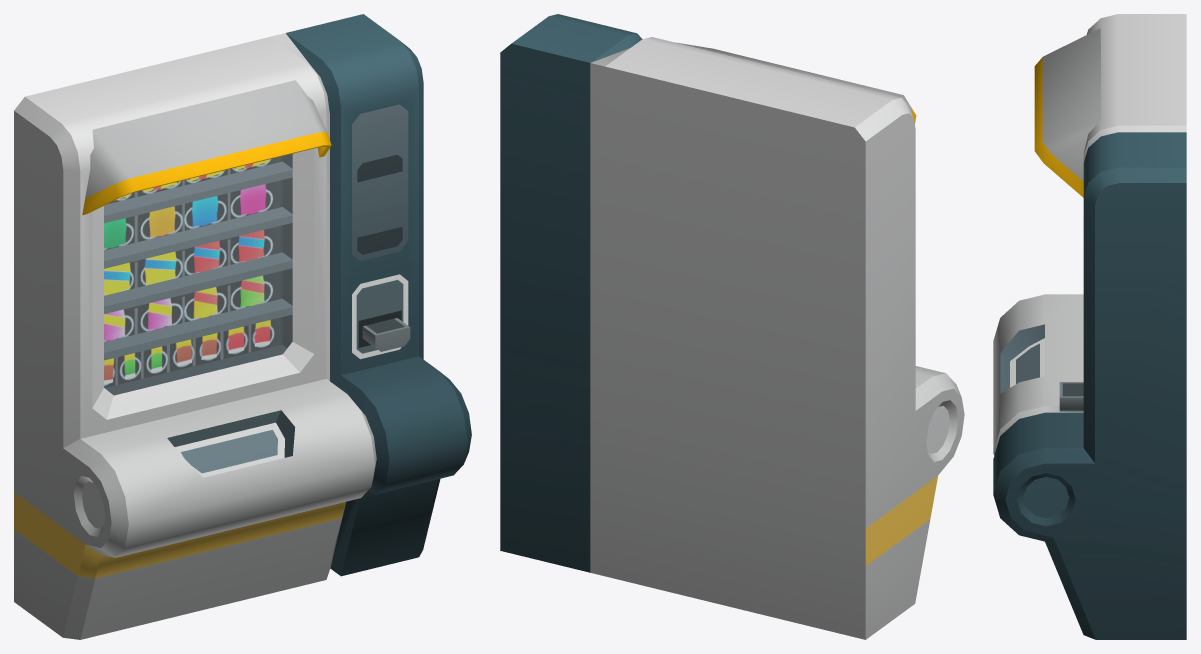
Rendered from Vending_Machine_003.glb.
The picture shows the model from 3 angles, left to right: view 1: azimuth 30°, elevation 25°; view 2: azimuth 150°, elevation 25°; view 3: azimuth 270°, elevation 25°; orthographic projection. The views are drawn at different scales.
Visible parts, largest first — view 1: Vending_Machine_003; view 2: Vending_Machine_003; view 3: Vending_Machine_003.
Part boxes in pixels (x1=…): Vending_Machine_003: x1=14, y1=14, x2=471, y2=639; Vending_Machine_003: x1=500, y1=14, x2=964, y2=639; Vending_Machine_003: x1=993, y1=14, x2=1186, y2=639.
Bounding box in the file's own units: 1.5 × 2 × 0.75.
Materials: 4 (4 with a texture image).
